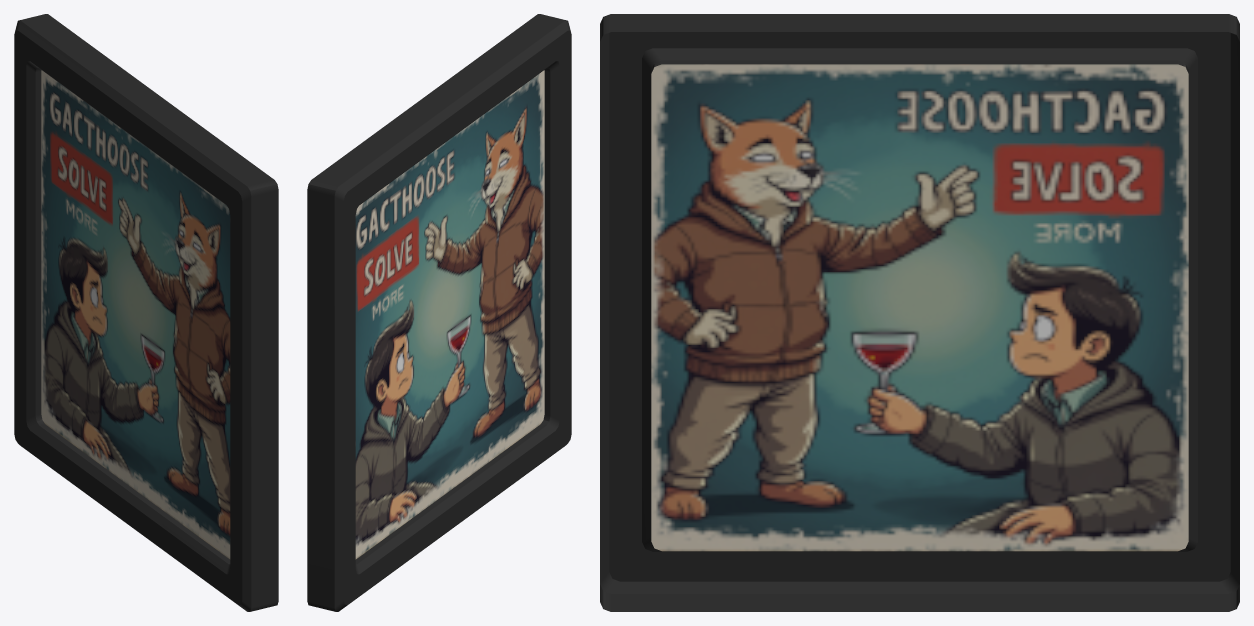
Rendered from SM_Frame9.fbx.
The picture shows the model from 3 angles, left to right: view 1: azimuth 30°, elevation 25°; view 2: azimuth 150°, elevation 25°; view 3: azimuth 270°, elevation 25°; orthographic projection. The views are drawn at different scales.
Visible parts, largest first — view 1: SM_Frame9_LOD0; view 2: SM_Frame9_LOD0; view 3: SM_Frame9_LOD0.
Boxes of the visible parts, x1,y1,x2,y2 form: SM_Frame9_LOD0: (14, 14, 278, 611); SM_Frame9_LOD0: (307, 14, 571, 611); SM_Frame9_LOD0: (600, 14, 1239, 611).
Bounding box in the file's own units: 4.08 × 50 × 50.
1 material, 1 textured.
